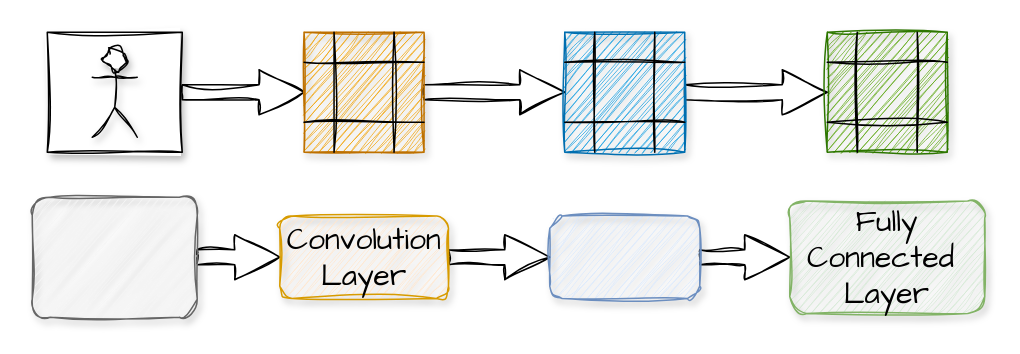
Some shapes in this 1020 by 354 pixel diagram are drawn without their labels. Each missing label, with the centre of its shape:
Input Image (64*64): point 115,259
ReLU Activation: point 625,258
